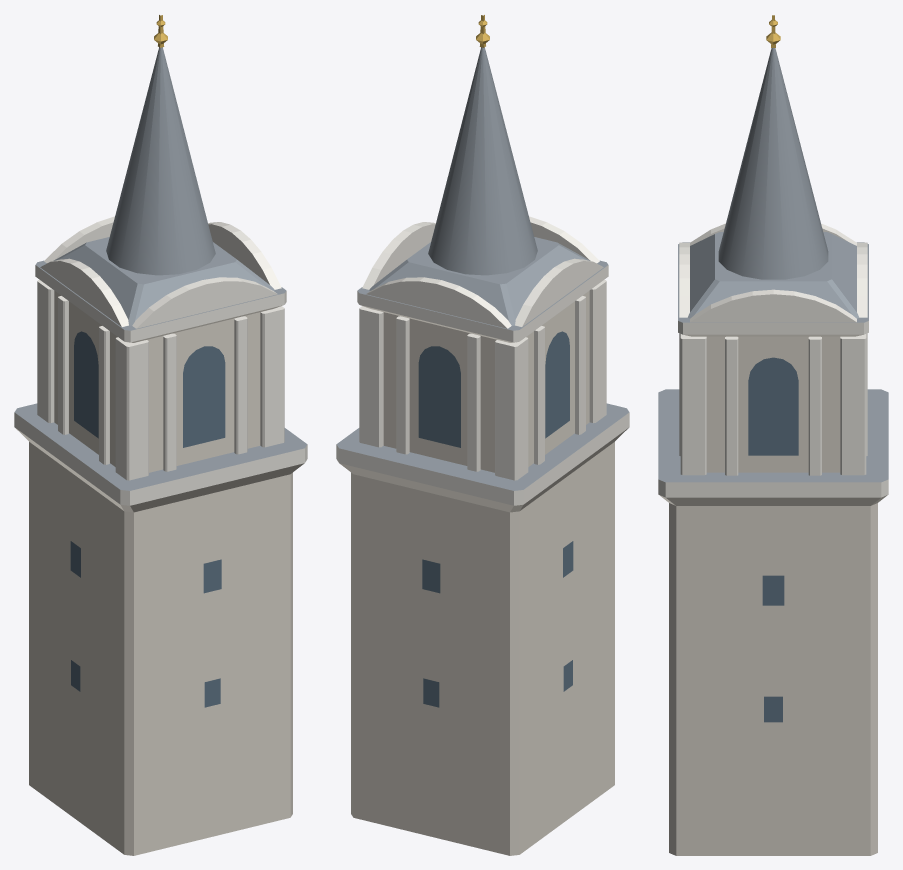
Rendered from istanbul-topkapi-justice-tower.glb.
3 views of the same model, side by side, from view 1: azimuth 30°, elevation 25°; view 2: azimuth 150°, elevation 25°; view 3: azimuth 270°, elevation 25° (orthographic).
Parts seen in each view (by area): view 1: Tower of Justice; view 2: Tower of Justice; view 3: Tower of Justice.
Part boxes in pixels (box(x1,y1,x2,y2)): Tower of Justice: box(14, 15, 307, 855); Tower of Justice: box(336, 15, 629, 855); Tower of Justice: box(658, 15, 888, 855).
Size of the model in its own units: 9.23 by 37 by 9.66.
